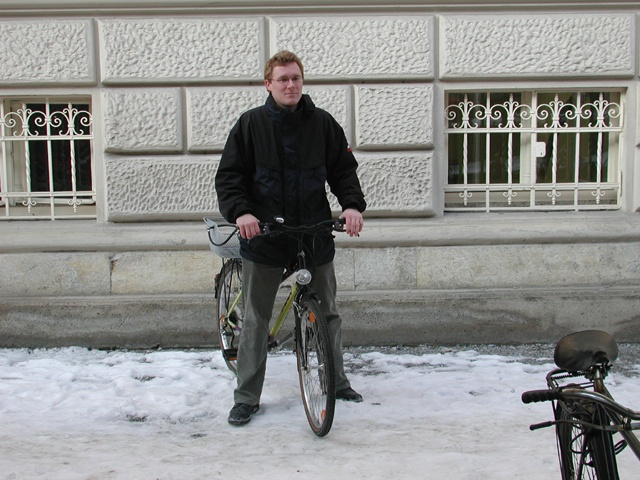person: (208, 54, 371, 425)
